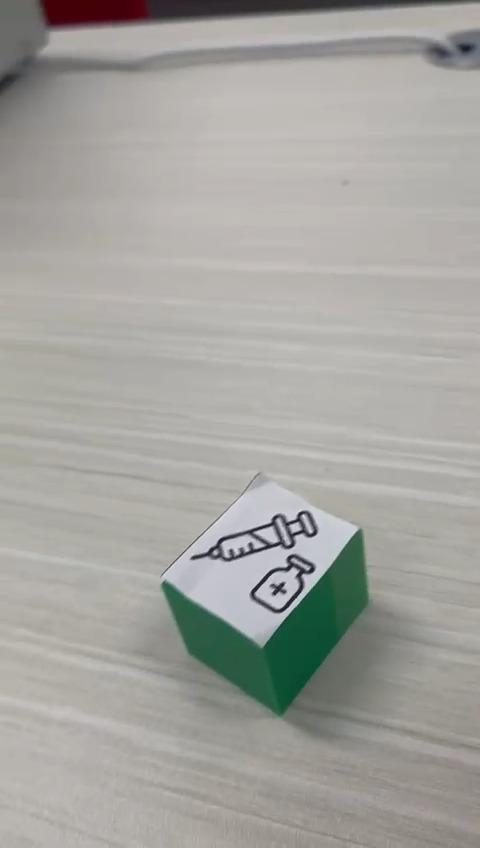antiseptic cream: (158, 469, 370, 716)
